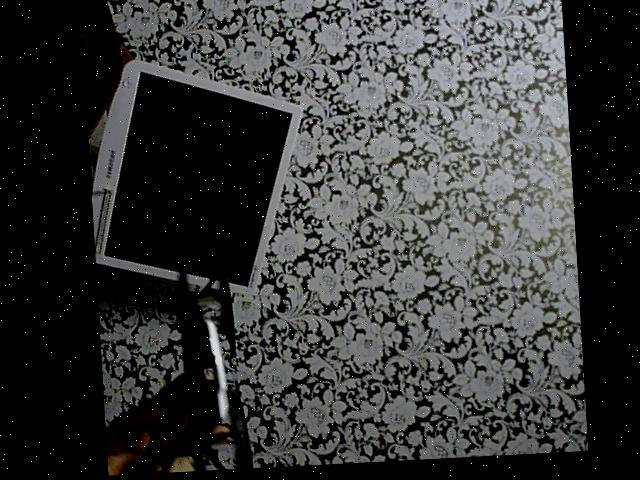drone: (146, 267, 268, 475)
